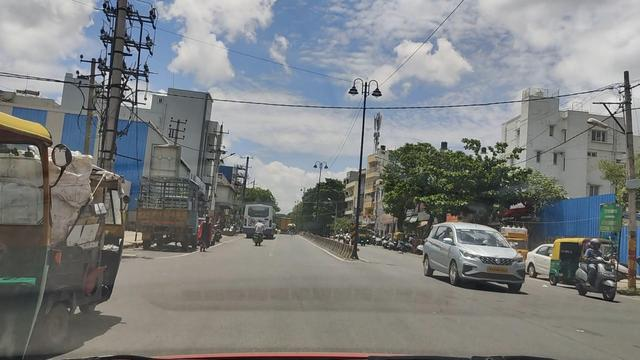LMV: (3, 119, 129, 351)
